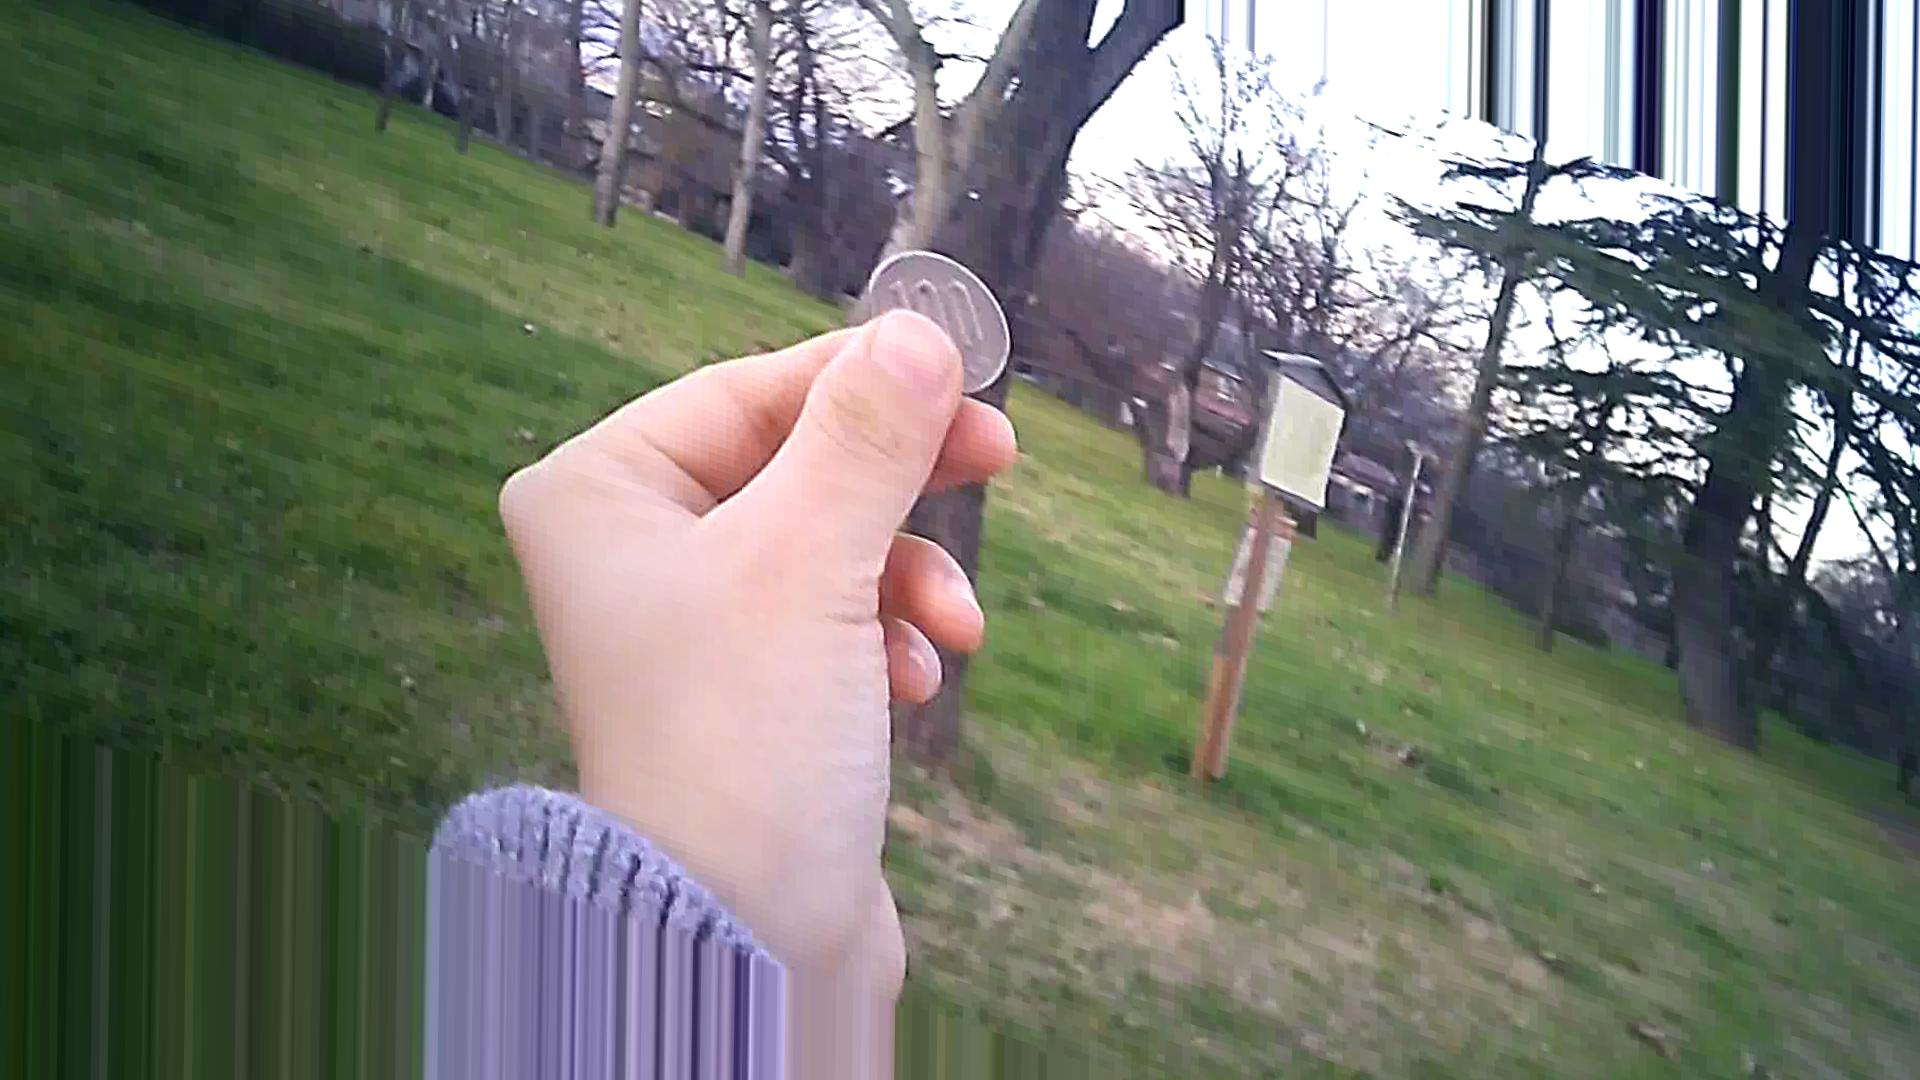100 Yen: (870, 252, 1013, 388)
